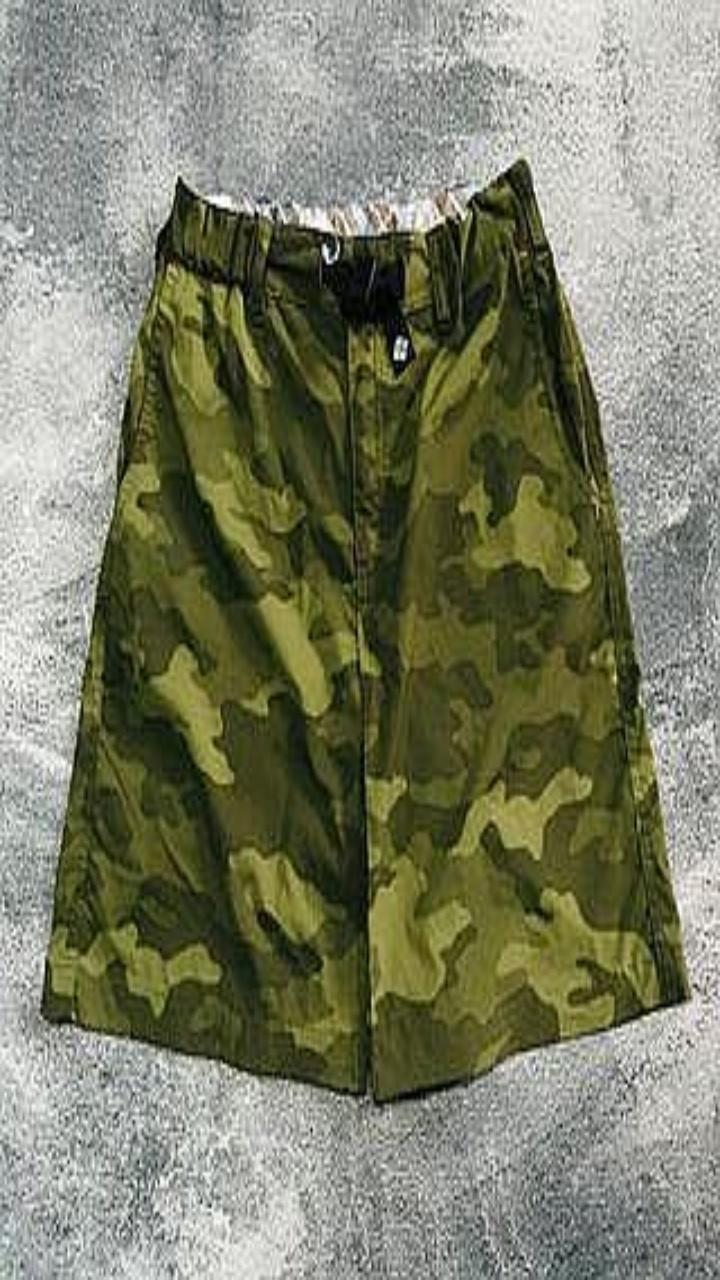Shorts: (42, 156, 688, 1100)
